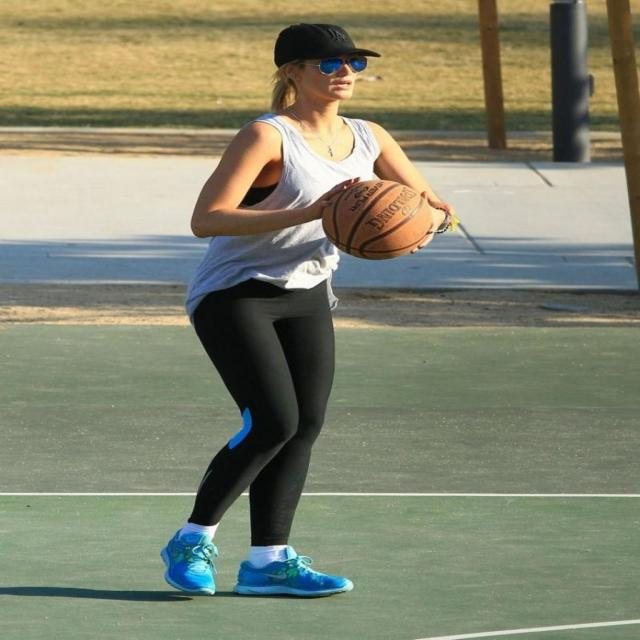Face: (289, 35, 367, 115)
